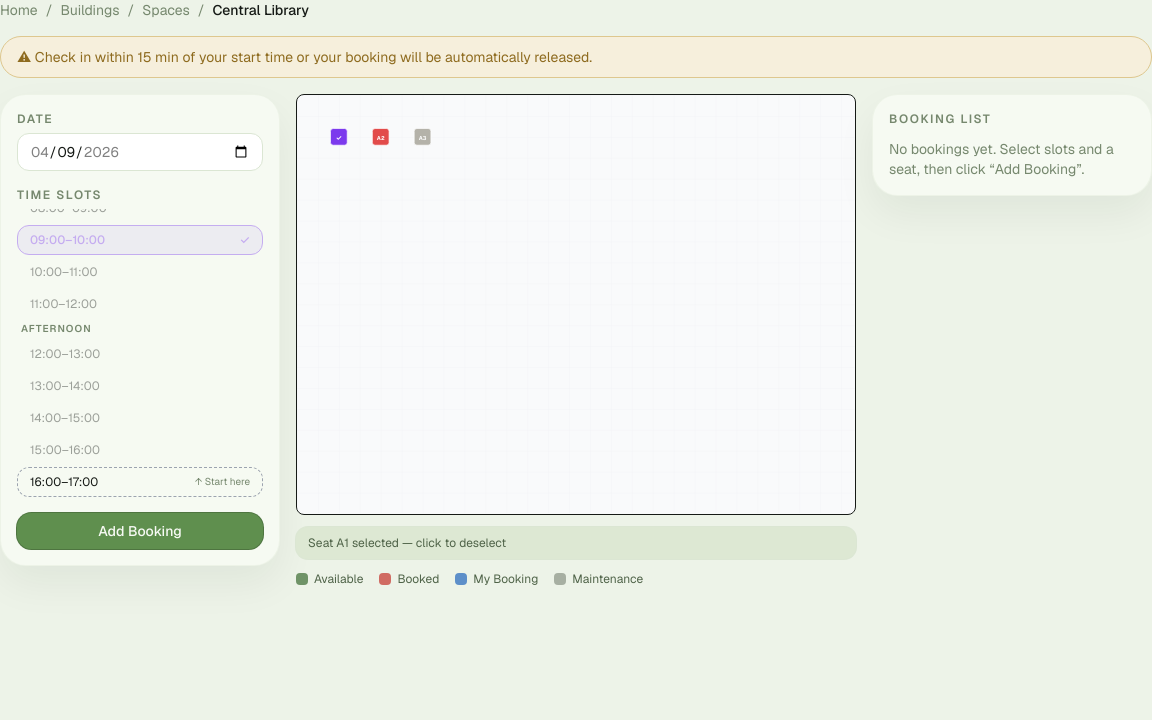
Test case: SpaceFloorplanPage › Submit opens the confirm modal
The image size is (1152, 720).
(page scrolled)
Click the button "Add Booking" at (140, 531), box [17,513,263,549]
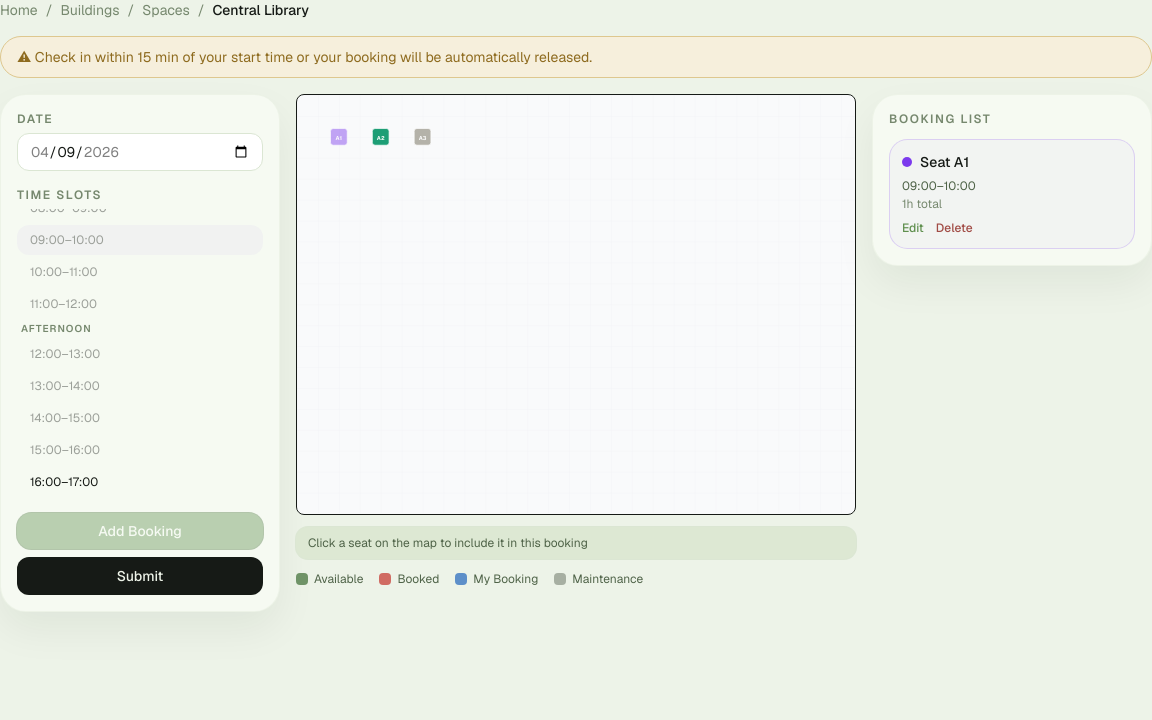
Result: the button "Submit" is shown
Click the button "Submit" at (140, 576), box [17,557,263,595]
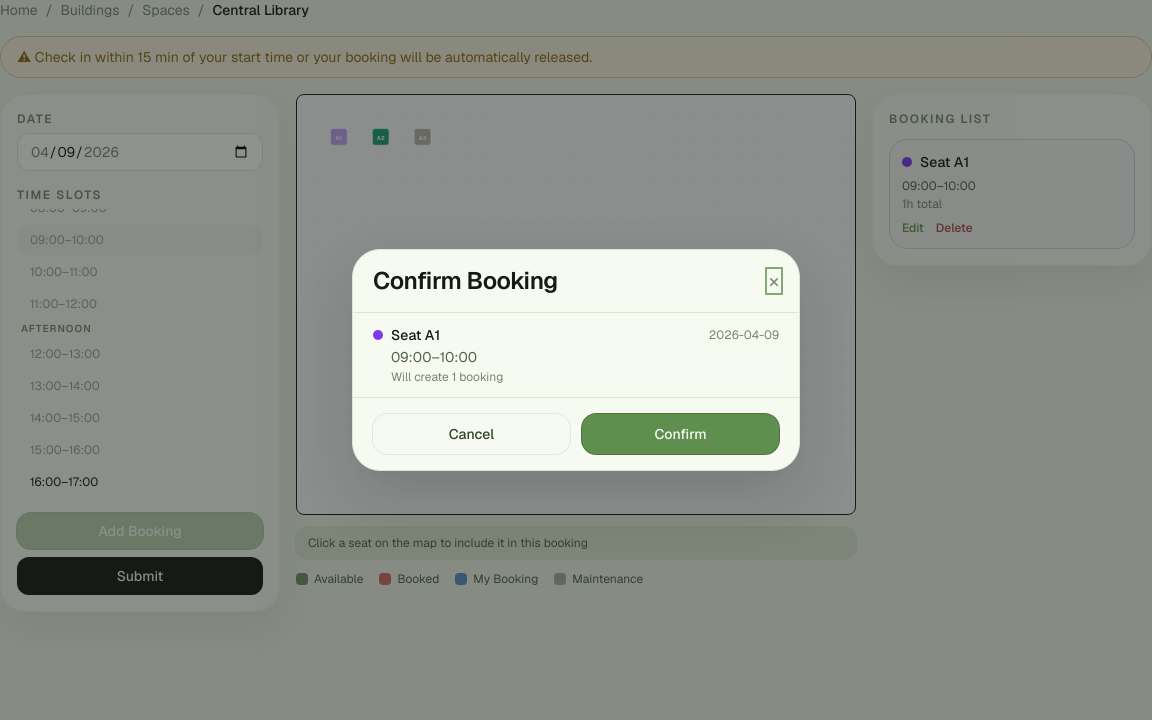
Result: the dialog is shown
